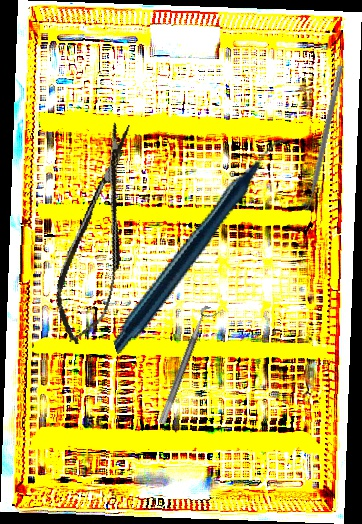Fixation Ring: (157, 304, 221, 429)
Handpiece: (72, 138, 331, 354)
Micro Scissor: (43, 117, 156, 350)
Spatula Surgical: (301, 63, 344, 213)
